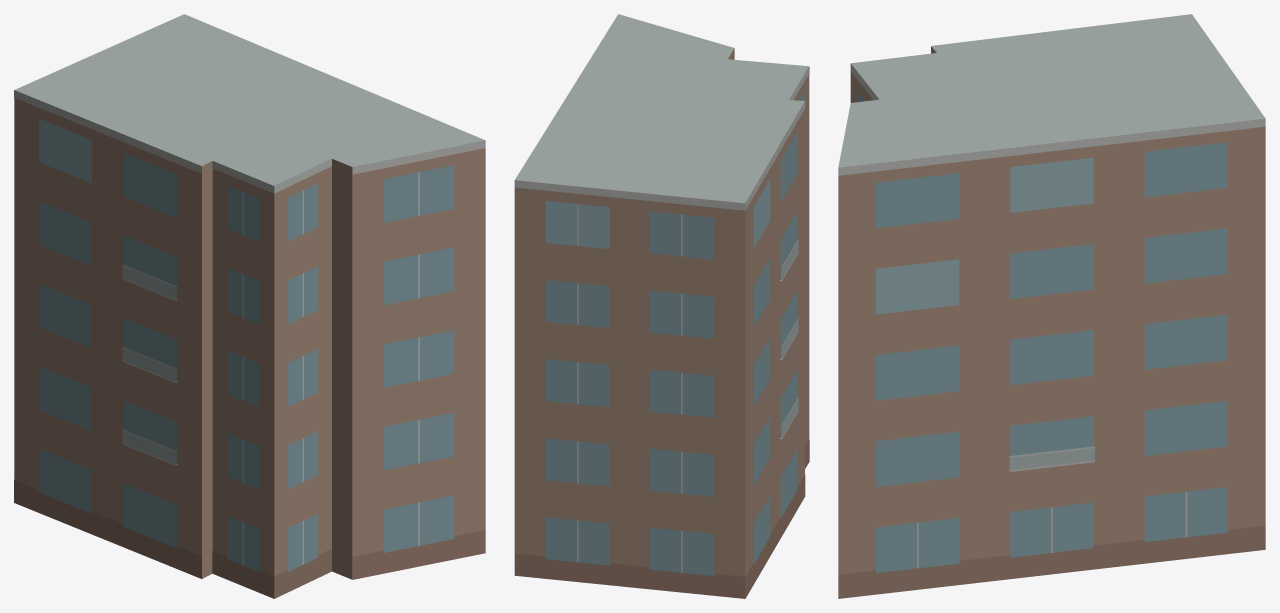
The model's file is survey-upis-32585761.glb.
3 views of the same model, side by side, from view 1: azimuth 30°, elevation 25°; view 2: azimuth 150°, elevation 25°; view 3: azimuth 270°, elevation 25° (orthographic). The views are drawn at different scales.
Parts seen in each view (by area): view 1: survey-upis-32585761.tmp; view 2: survey-upis-32585761.tmp; view 3: survey-upis-32585761.tmp.
Part boxes in pixels (left/top/right/bottom): survey-upis-32585761.tmp: left=14, top=14, right=485, bottom=598; survey-upis-32585761.tmp: left=514, top=14, right=809, bottom=598; survey-upis-32585761.tmp: left=838, top=14, right=1265, bottom=598.
Bounding box in the file's own units: 10.12 × 13.2 × 11.88.
